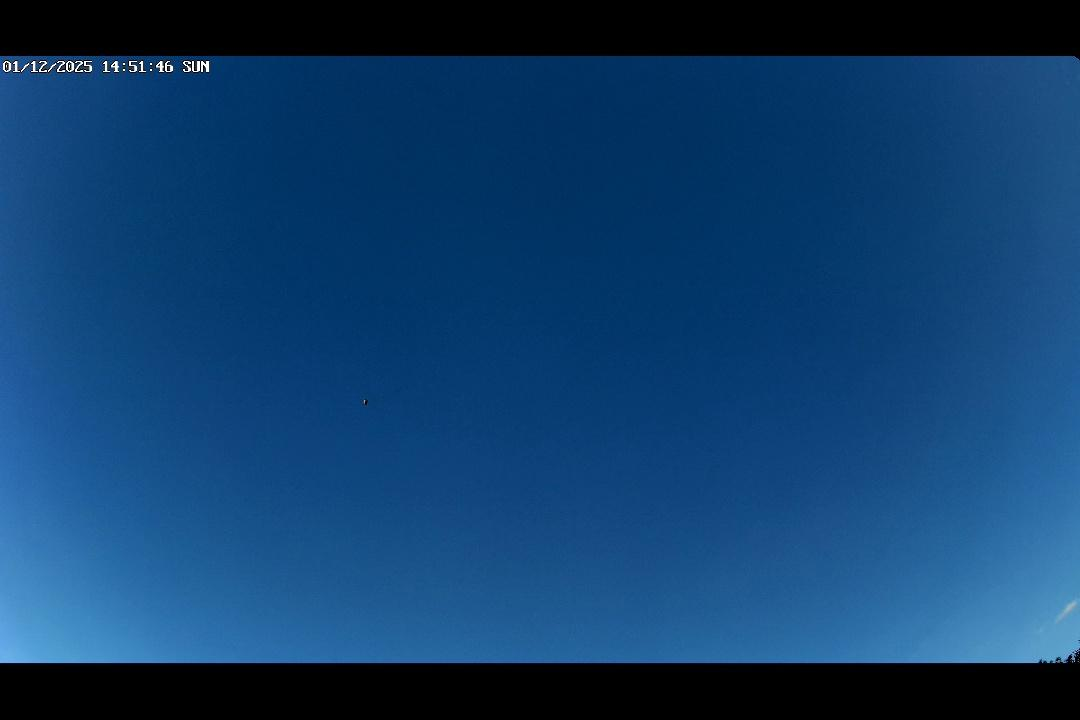WildLife: (354, 395, 381, 410)
